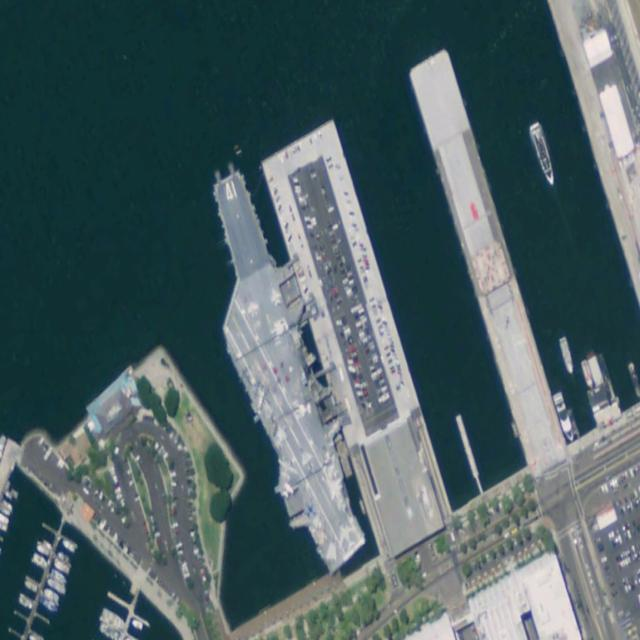Aircraft Carrier: (180, 155, 383, 592)
Other Ship: (557, 334, 577, 378)
Yacht: (528, 119, 558, 189), (552, 389, 576, 444)
